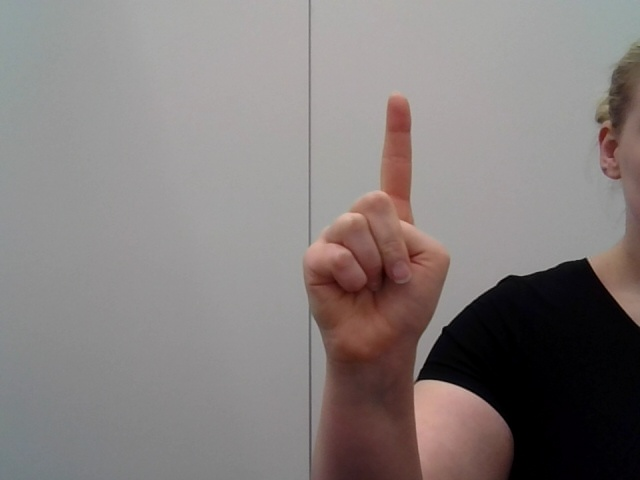up: (284, 72, 454, 393)
